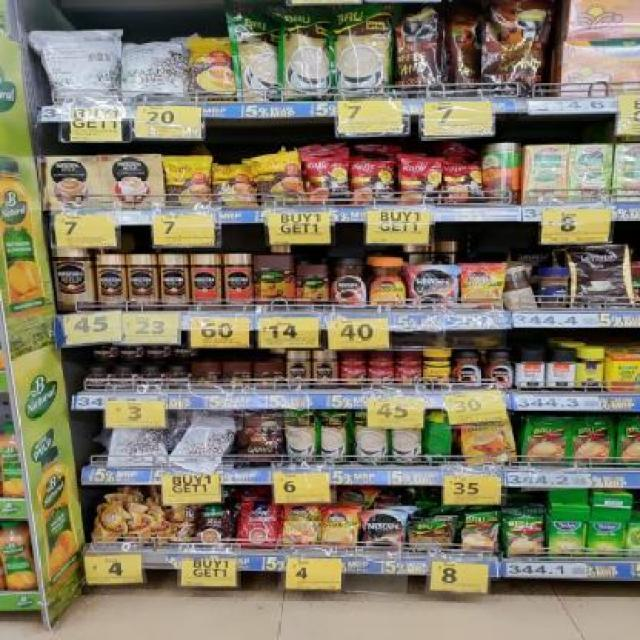Coffee: (54, 246, 92, 308), (464, 424, 516, 464), (409, 267, 456, 308), (461, 266, 502, 307), (333, 260, 366, 308), (372, 259, 405, 306), (363, 512, 403, 550), (128, 256, 156, 310), (97, 255, 124, 308), (321, 508, 357, 546), (161, 256, 186, 309), (286, 505, 318, 546), (488, 353, 514, 388), (456, 353, 482, 386), (287, 352, 310, 389), (312, 352, 336, 386), (141, 368, 162, 389), (112, 369, 134, 388), (166, 369, 189, 386), (88, 369, 108, 388), (92, 345, 114, 360), (119, 346, 142, 360), (146, 346, 168, 360), (173, 347, 196, 358)
